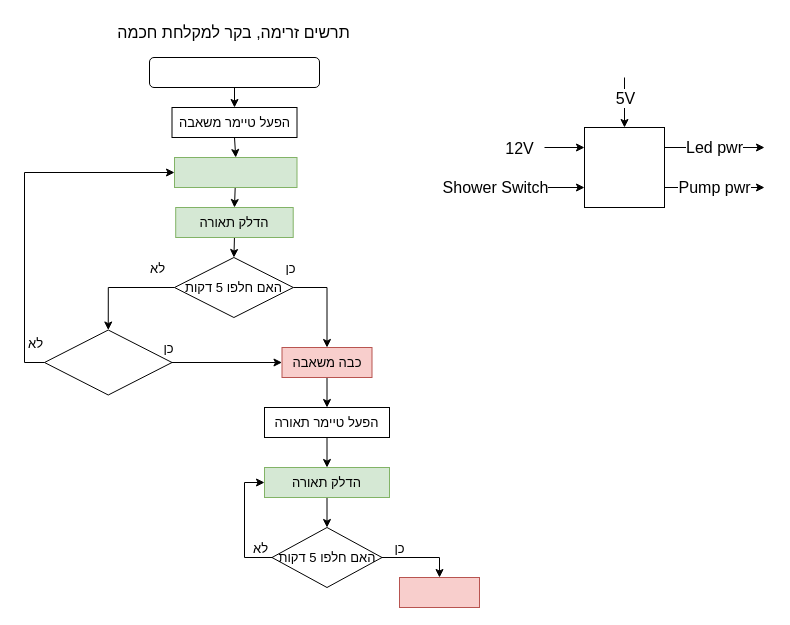
Image size: 790x625. Some labels were removed from this diagram. Here are the shapes that lost their labels. From the top down, the box of each, then its label:
(148, 56, 320, 88): מתג ON
(174, 156, 297, 188): הדלק משאבה
(44, 329, 172, 395): האם מתג במצב OFF
(398, 576, 480, 608): כבה תאורה
